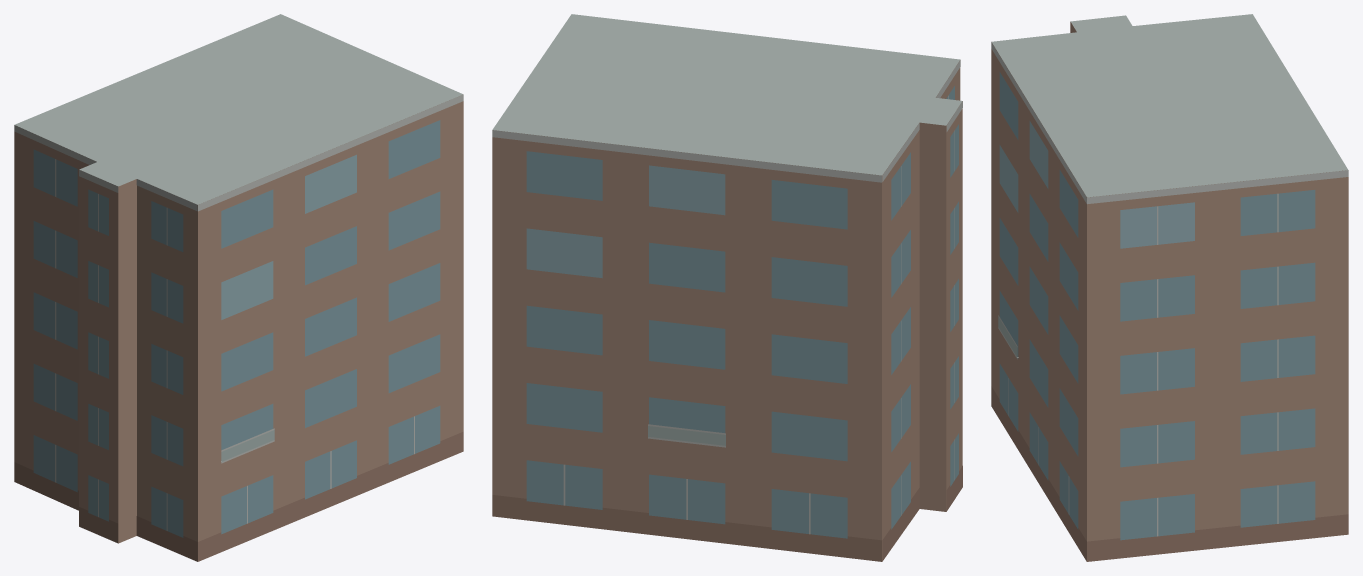
The model's file is survey-upis-32715254.glb.
3 views of the same model, side by side, from view 1: azimuth 30°, elevation 25°; view 2: azimuth 150°, elevation 25°; view 3: azimuth 270°, elevation 25° (orthographic). The views are drawn at different scales.
Visible parts, largest first — view 1: survey-upis-32715254.tmp; view 2: survey-upis-32715254.tmp; view 3: survey-upis-32715254.tmp.
Part boxes in pixels (x1=…): survey-upis-32715254.tmp: x1=14, y1=14, x2=463, y2=561; survey-upis-32715254.tmp: x1=492, y1=14, x2=962, y2=561; survey-upis-32715254.tmp: x1=991, y1=14, x2=1348, y2=561.
Size of the model in its own units: 14.15 by 13.1 by 11.64.
